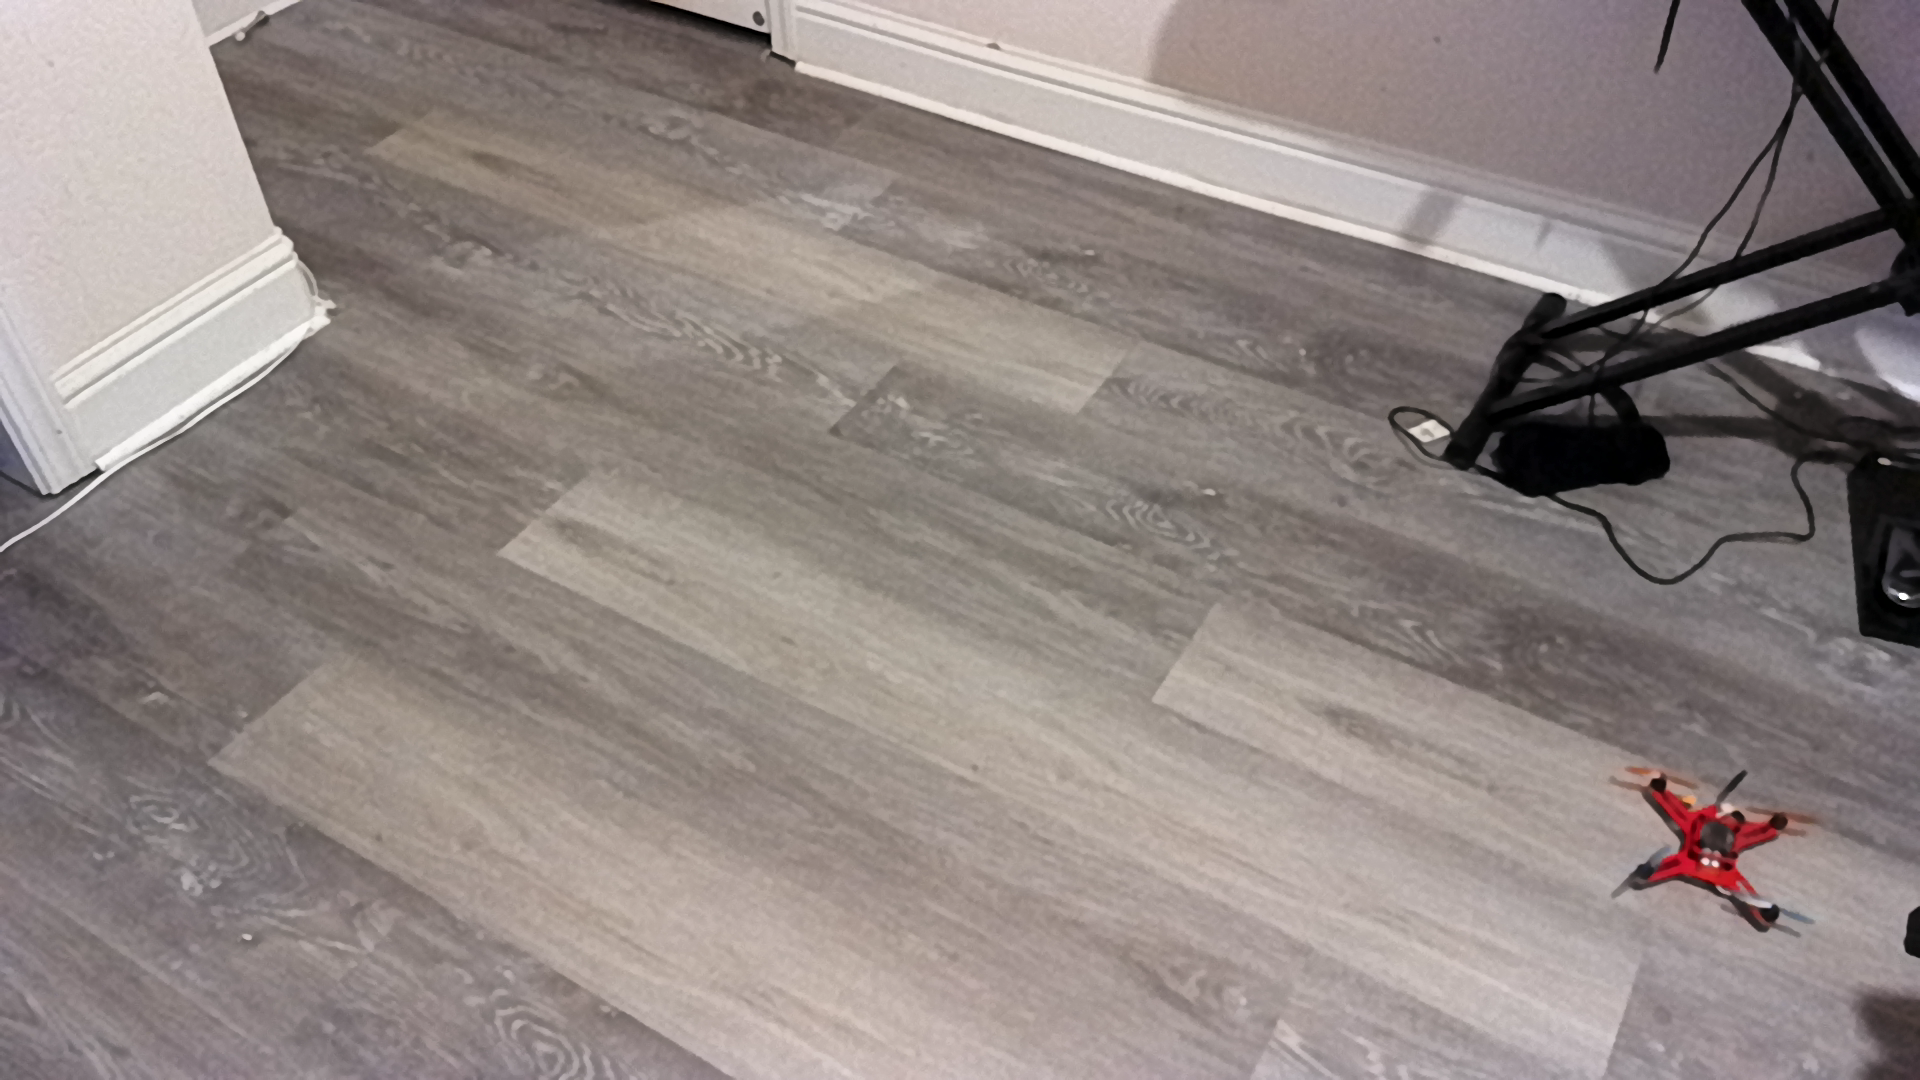drone: (1615, 760, 1836, 952)
